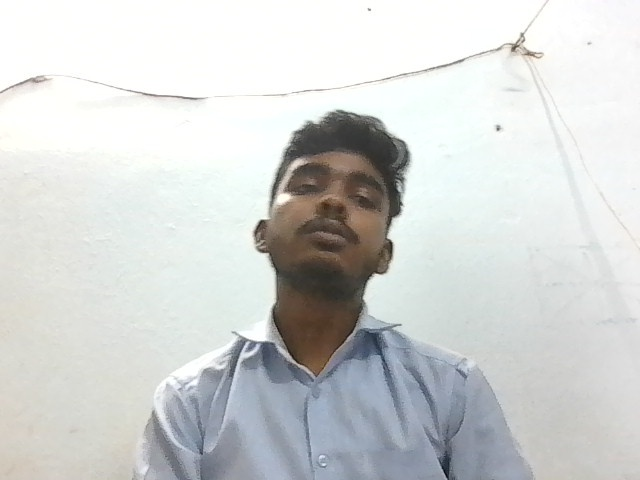real: (267, 109, 397, 294)
